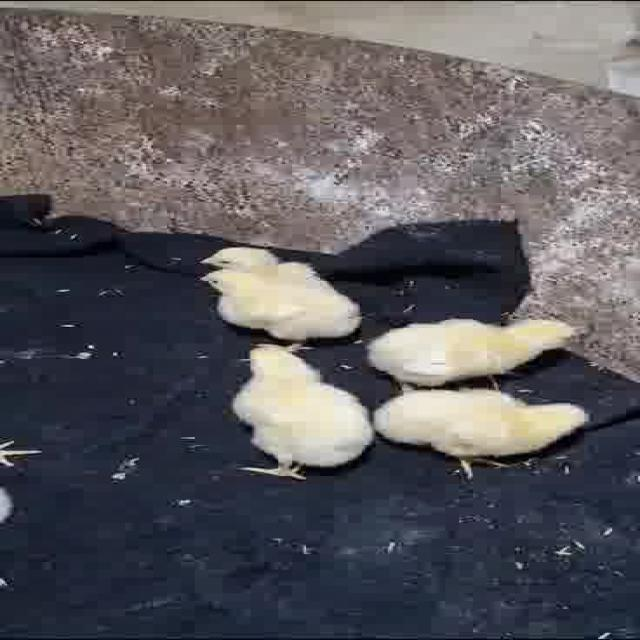poussin: (224, 345, 368, 486), (374, 387, 584, 468), (365, 312, 571, 382), (197, 269, 360, 350), (192, 242, 330, 288)
